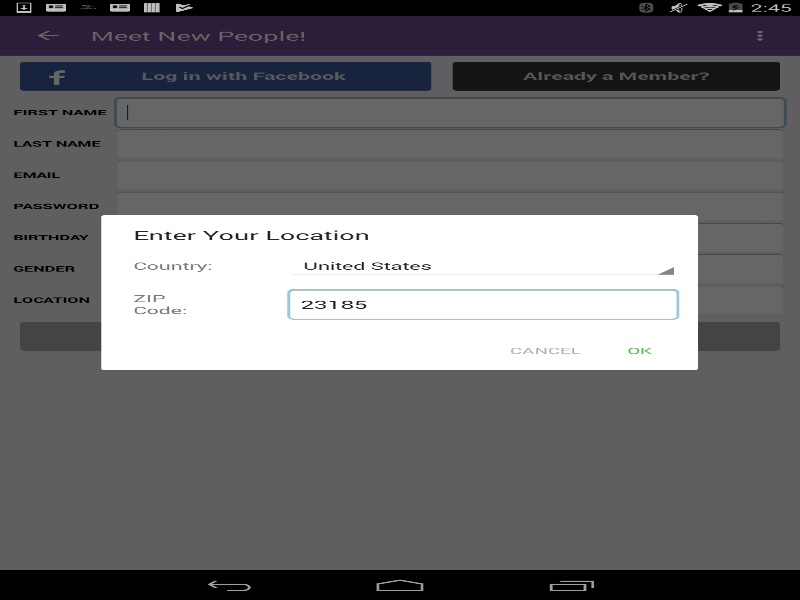Button: (494, 333, 596, 367), (596, 333, 682, 367)
Input: (287, 288, 679, 320)
